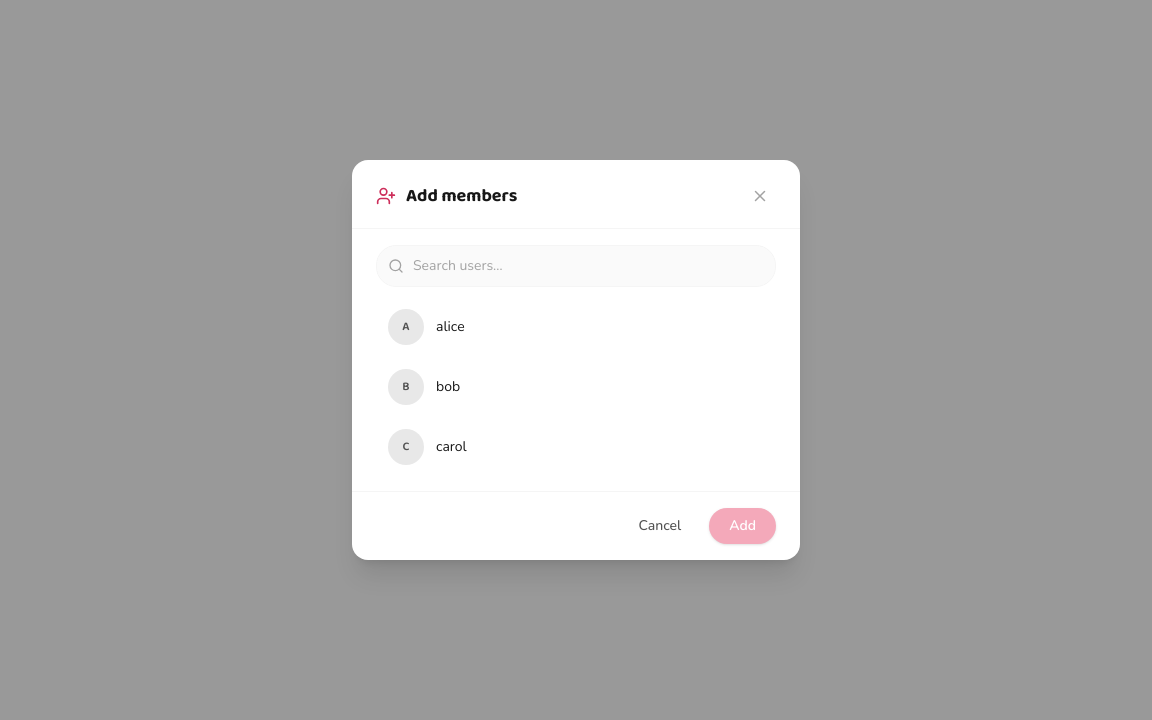
it: AddParticipantModal › shows error message when adding participants fails with 403
Click the text "alice". click: (450, 326)
box: [436,317,465,336]
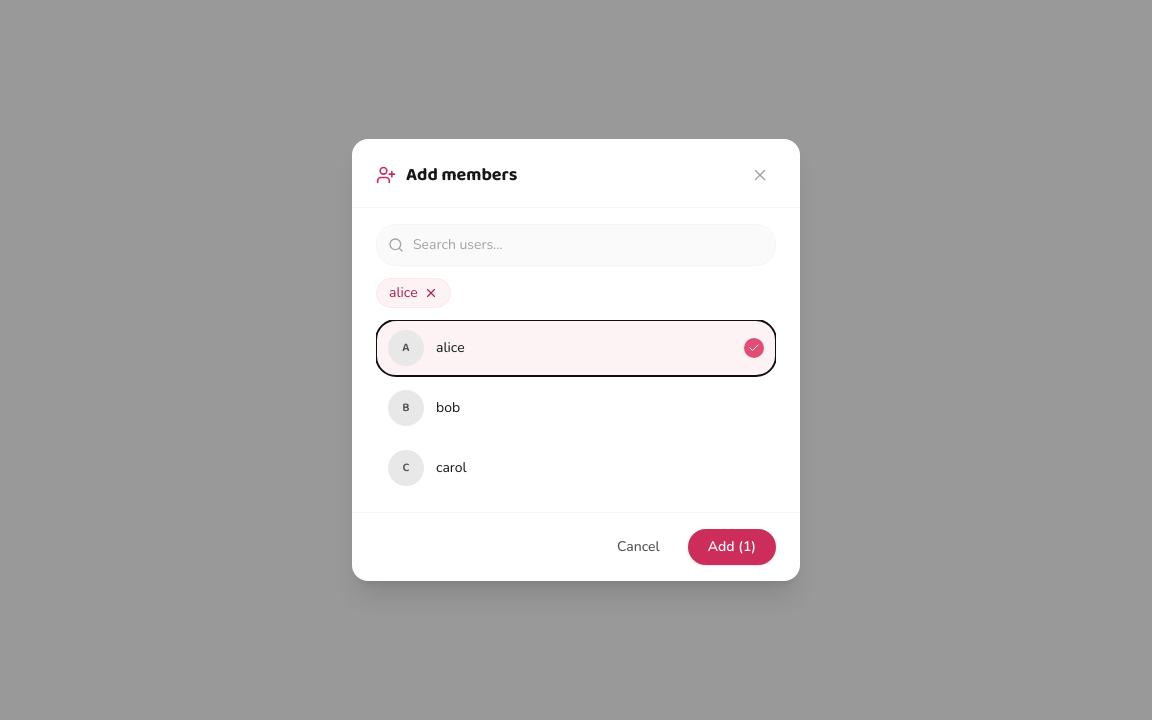
Click the button "Add (1)". click: (732, 547)
box: [688,529,776,565]
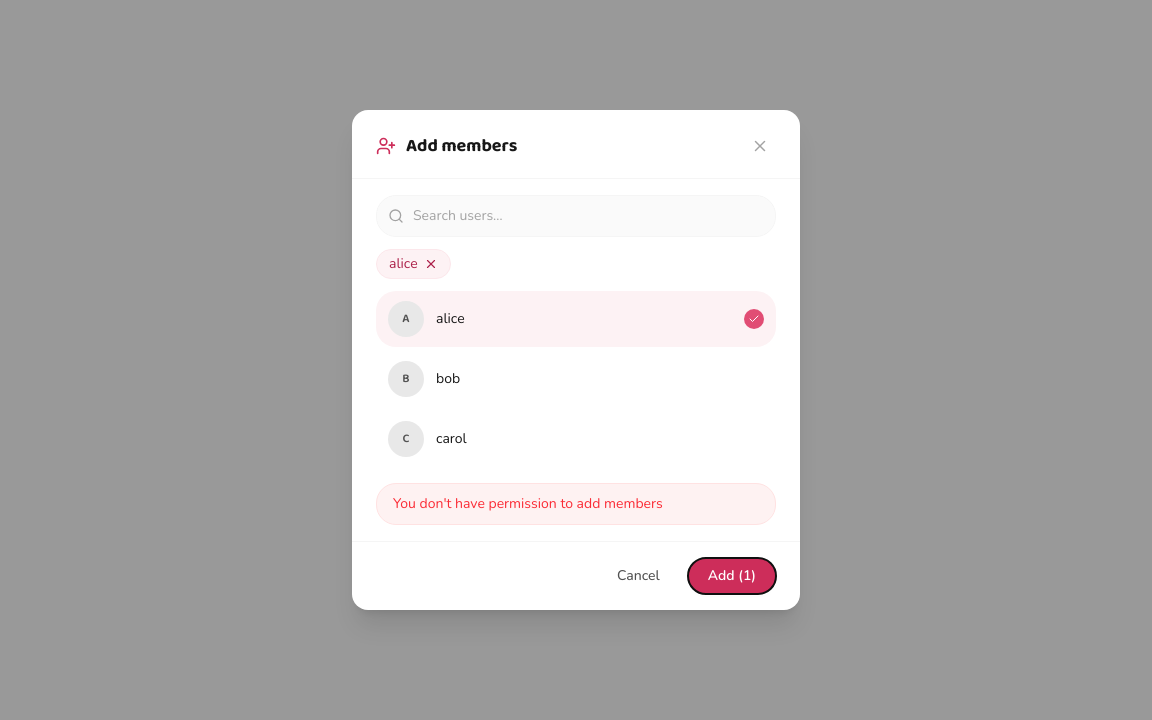
Expected: the text "You don't have permission to add members" is shown, [376,483,776,525]
